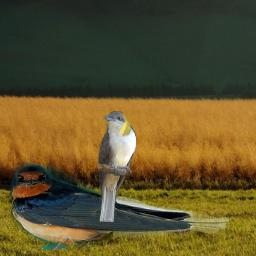Cuckoo: (96, 111, 136, 222)
Swallow: (5, 160, 229, 250)
